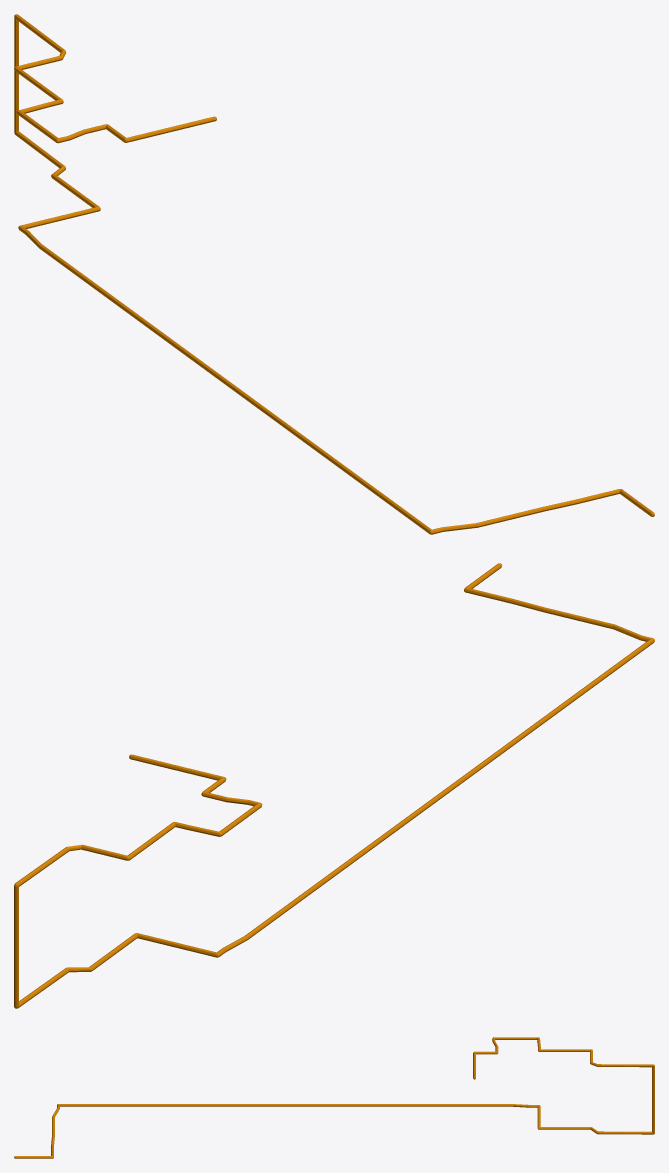
3 renders of one model, top to bottom at view 1: azimuth 30°, elevation 25°; view 2: azimuth 150°, elevation 25°; view 3: azimuth 270°, elevation 25°, orthographic. The views are drawn at different scales.
Size of the model in its own units: 849 by 520 by 4315.
